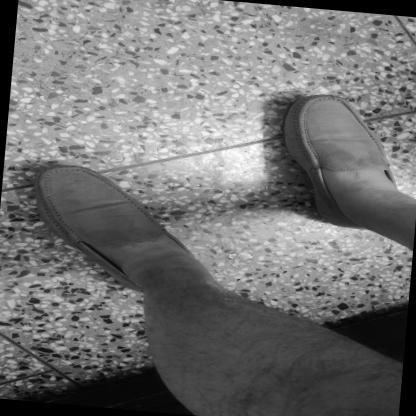ankle: (343, 213, 348, 215), (130, 278, 134, 280)
heel: (337, 225, 341, 227), (138, 290, 141, 292)
left_foot: (277, 92, 408, 234)
pinky: (50, 196, 54, 198), (350, 110, 354, 112)
right_foot: (26, 164, 204, 298)
toe: (88, 174, 94, 178), (303, 107, 309, 111)
